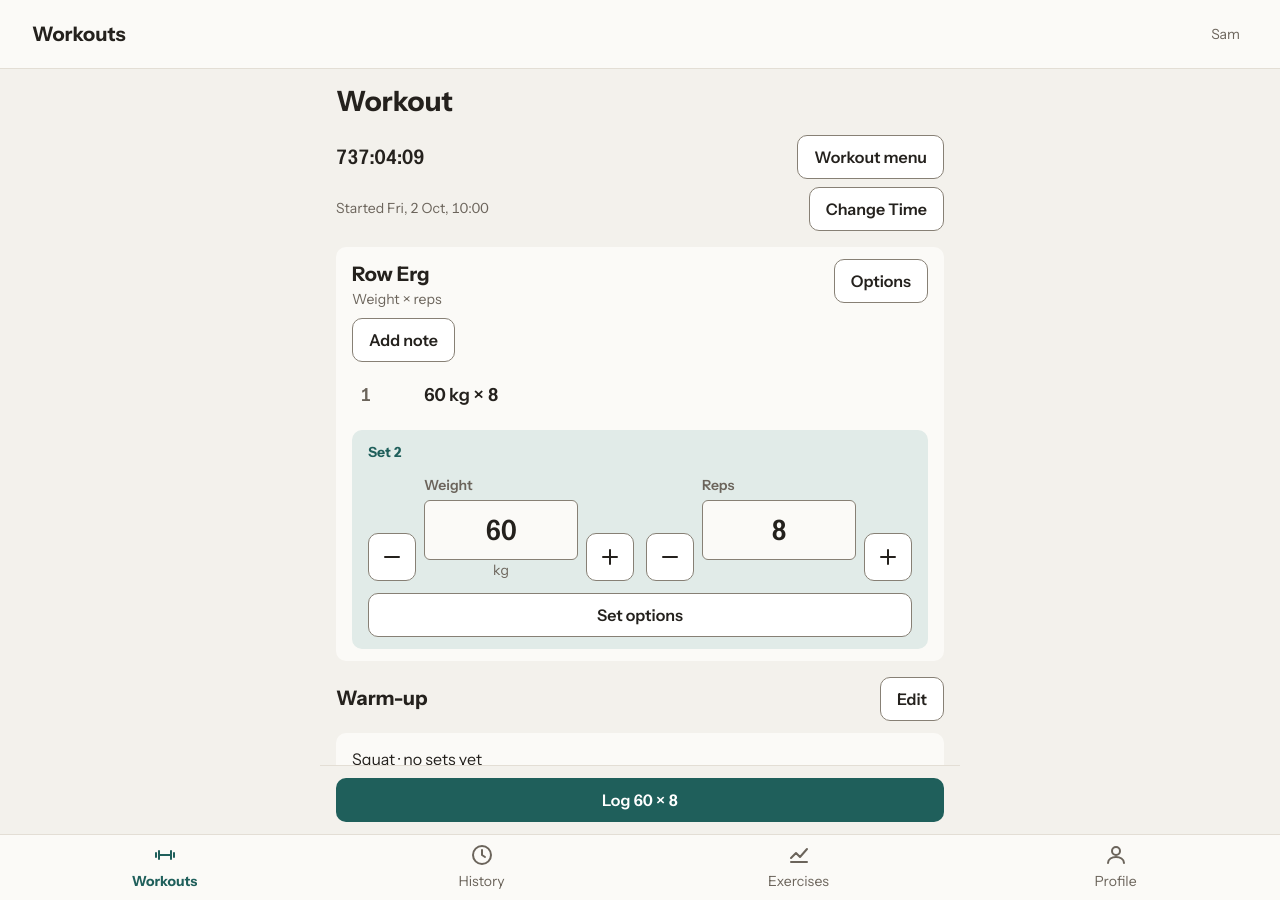
it: 10.6 AC9 / AC10 — move › Options → Section → Warm-up: one { sectionId } PATCH; the card moves, its heading is focused, the status says so, it stays current
expect the heading "Workout" is shown: met, box [336,84,453,118]
Click the button with aria-label "Options for " at [881, 281], box [834,259,928,303]
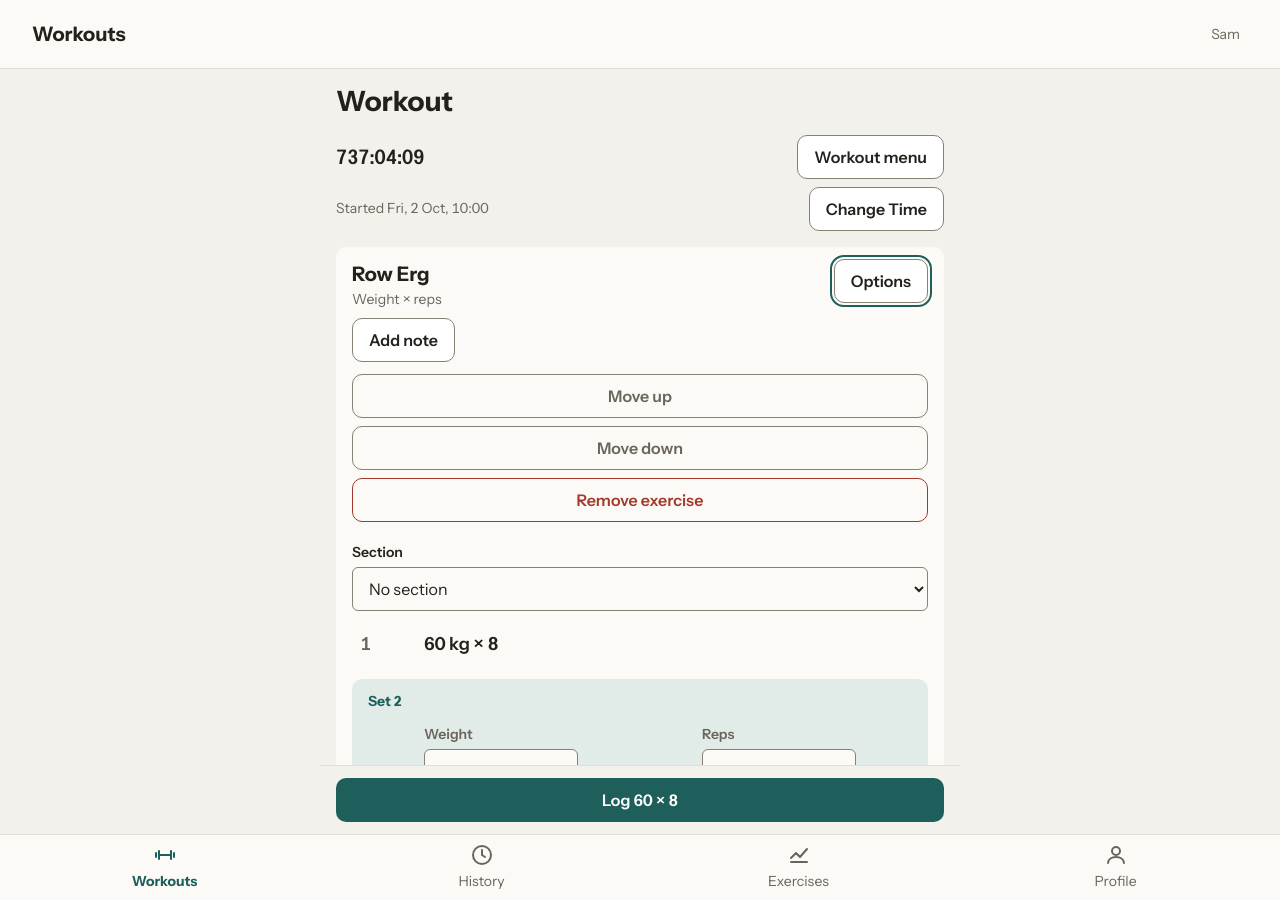
expect the dropdown labelled "Section" shows "No section": met
Select "Warm-up" in the dropdown labelled "Section" at [640, 589], box [352,567,928,611]
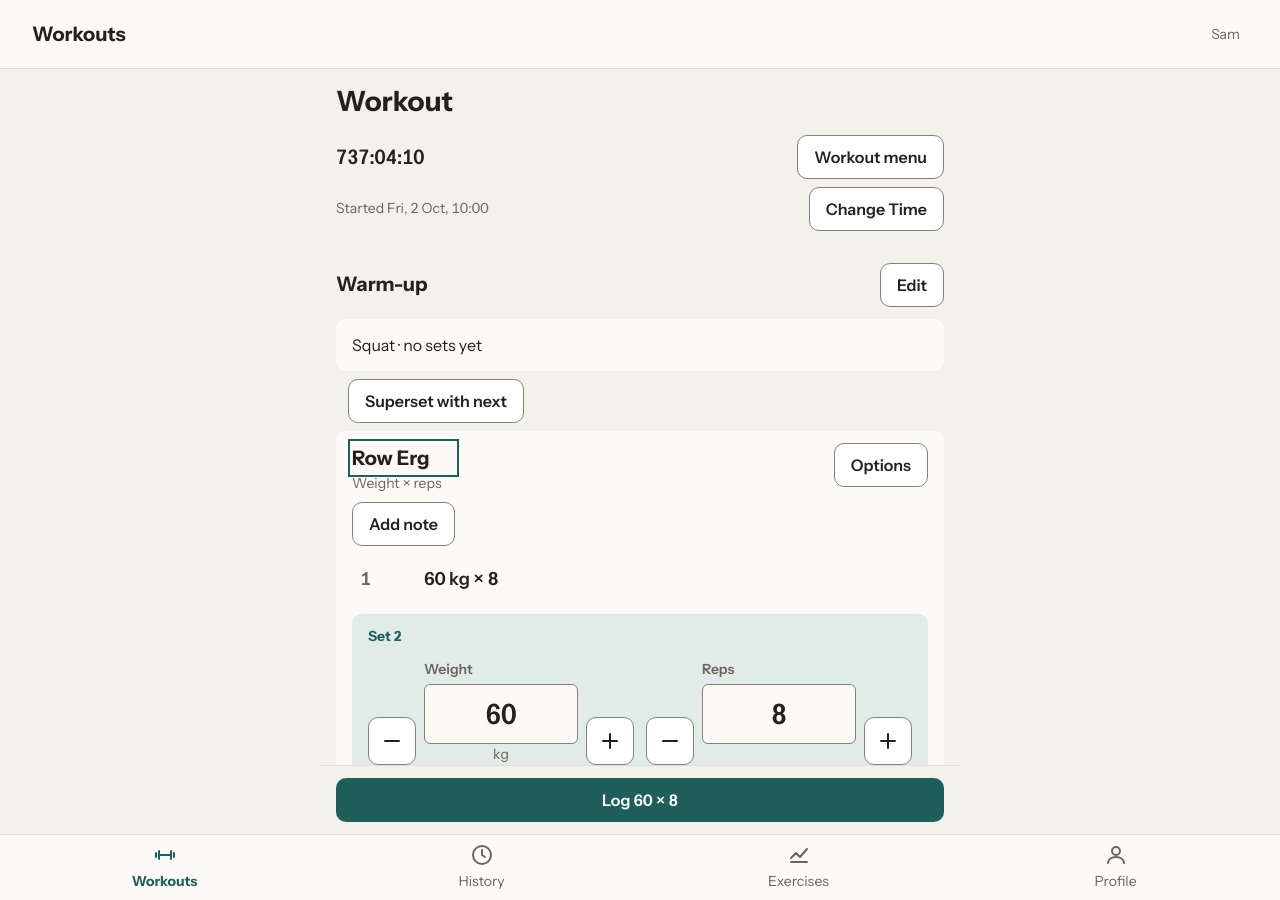
expect the button with aria-label "Options for " is shown: met, box [834,443,928,487]
expect the element "Row Erg" is shown: met, box [336,431,944,834]
